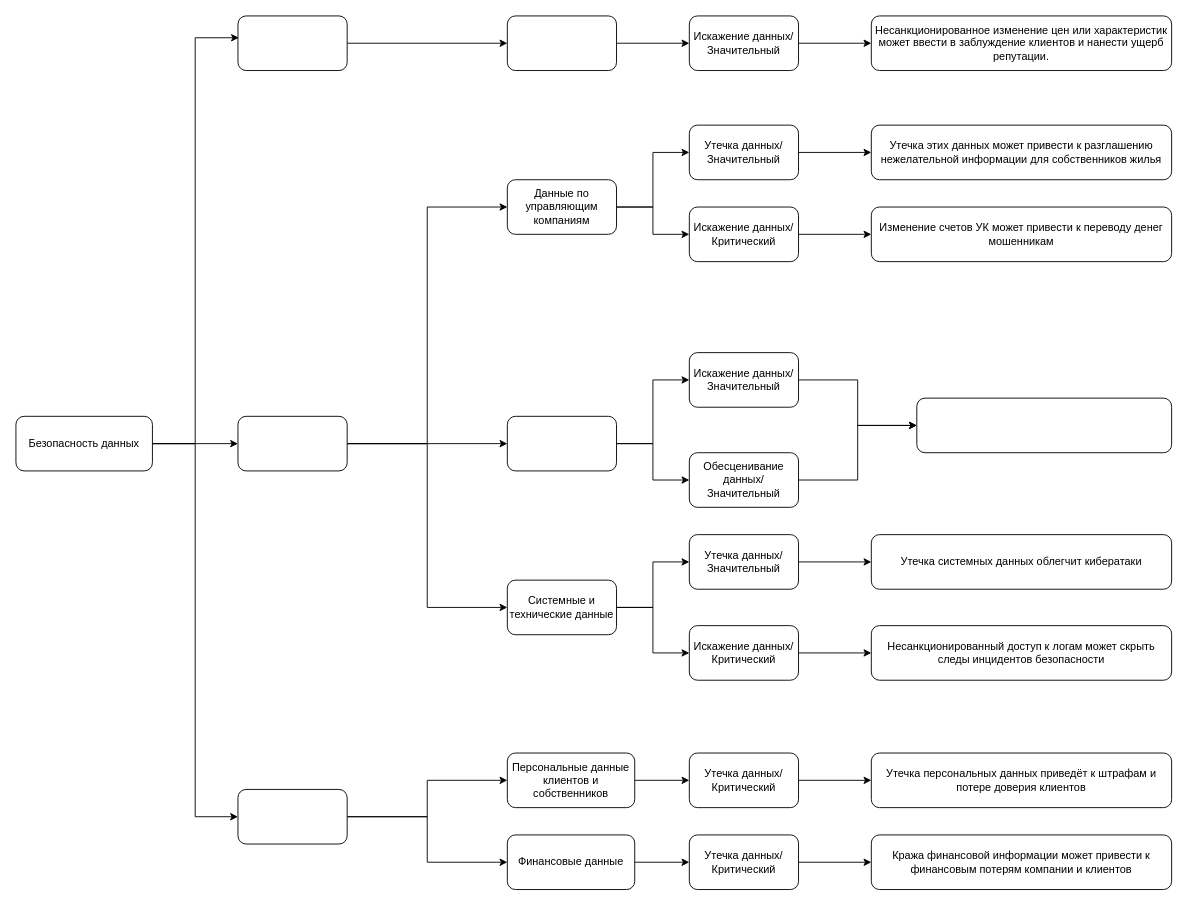
Image size: 1188x905. Some labels were removed from this diagram. Here are the shapes that lost their labels. From the top down, the box of each, then its label:
(237, 15, 347, 71): Публичные
(506, 15, 617, 71): Данные об объектах недвижимости
(237, 415, 347, 471): Внутренние
(506, 415, 617, 471): Внутренние данные для аналитики
(916, 397, 1172, 453): Искажение данных может приводить к неправильным/бесполезным прогнозам и выводам
(237, 789, 347, 844): Конфиденциальные
